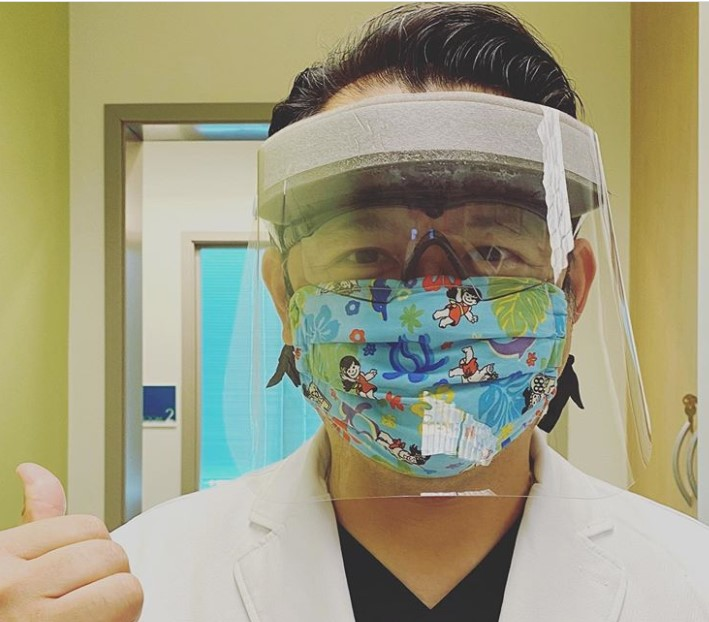face_with_mask: (255, 17, 601, 485)
